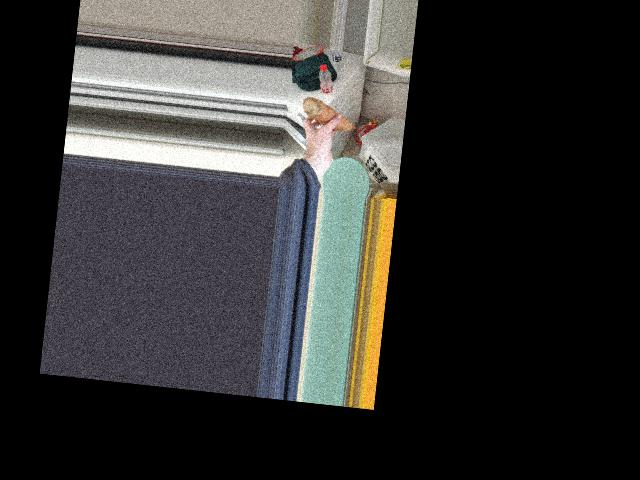sweet_potato: (302, 94, 354, 136)
